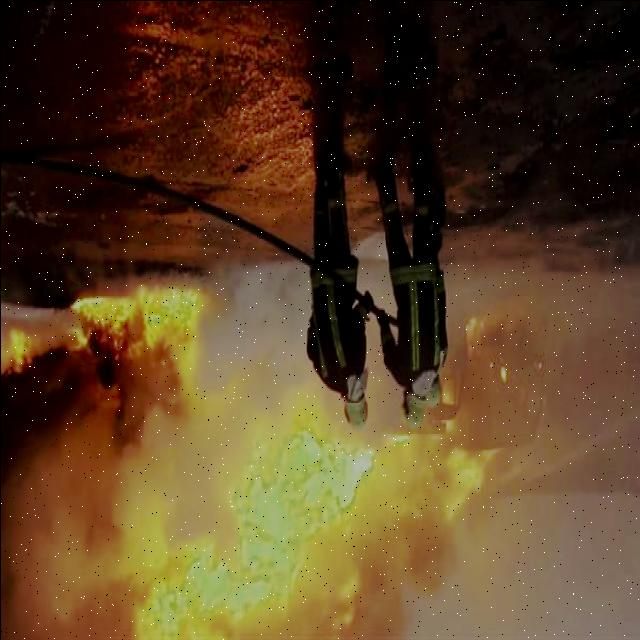api: (150, 436, 372, 637), (79, 287, 208, 334), (450, 446, 494, 510), (8, 324, 33, 376)
asap: (2, 380, 157, 637), (377, 439, 453, 631), (205, 261, 311, 397), (454, 245, 542, 368), (160, 337, 212, 437)
